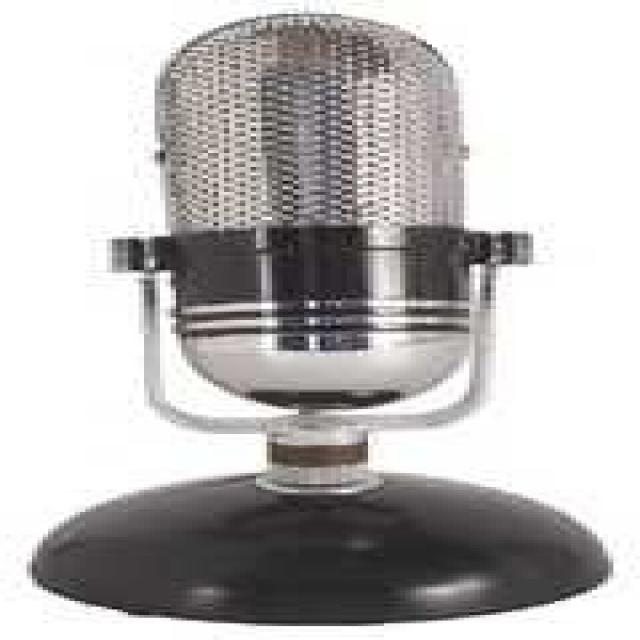microphone: (29, 15, 612, 625)
